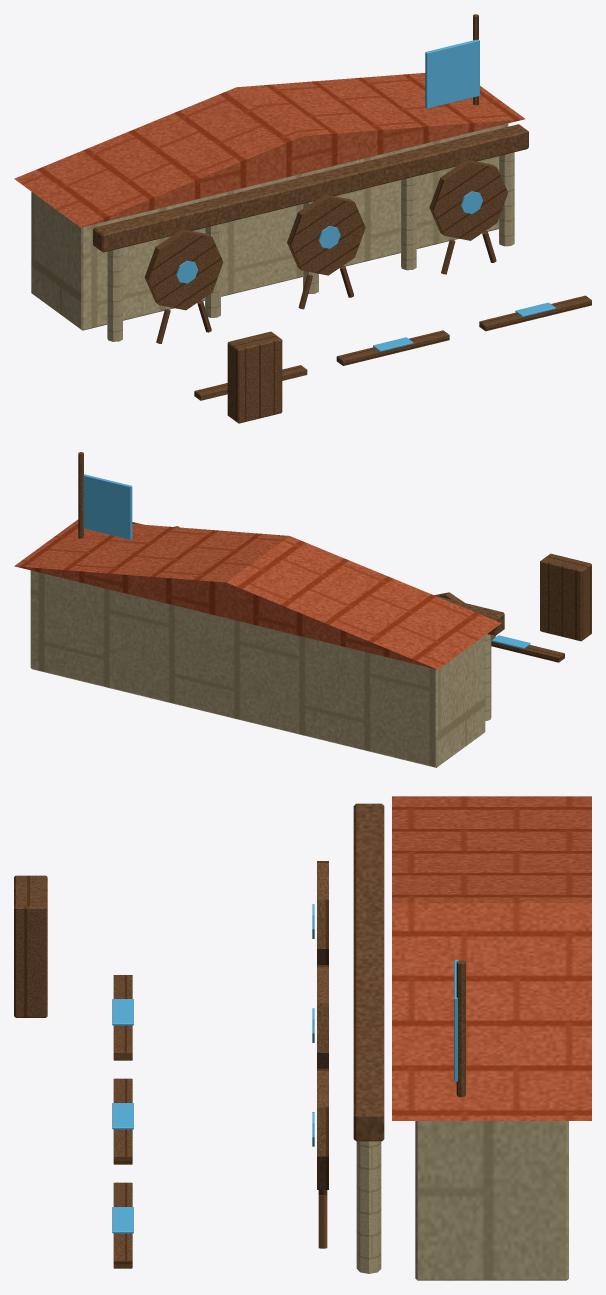
File: edificio-b_000-e1-Bg35ZzWO.glb
3 views of the same model, one above another, from view 1: azimuth 30°, elevation 25°; view 2: azimuth 150°, elevation 25°; view 3: azimuth 270°, elevation 25° (orthographic). The views are drawn at different scales.
Parts seen in each view (by area): view 1: envolvente_arqueria, team_color; view 2: envolvente_arqueria, team_color; view 3: envolvente_arqueria, team_color.
Boxes of the visible parts, box(x1,y1,x2,y2) form: envolvente_arqueria: box(14, 14, 591, 423); team_color: box(176, 39, 555, 351); envolvente_arqueria: box(14, 452, 591, 767); team_color: box(83, 474, 530, 648); envolvente_arqueria: box(14, 796, 591, 1280); team_color: box(112, 904, 458, 1233).
Bounding box in the file's own units: 50 × 22.09 × 37.6.
2 materials, 1 textured.
